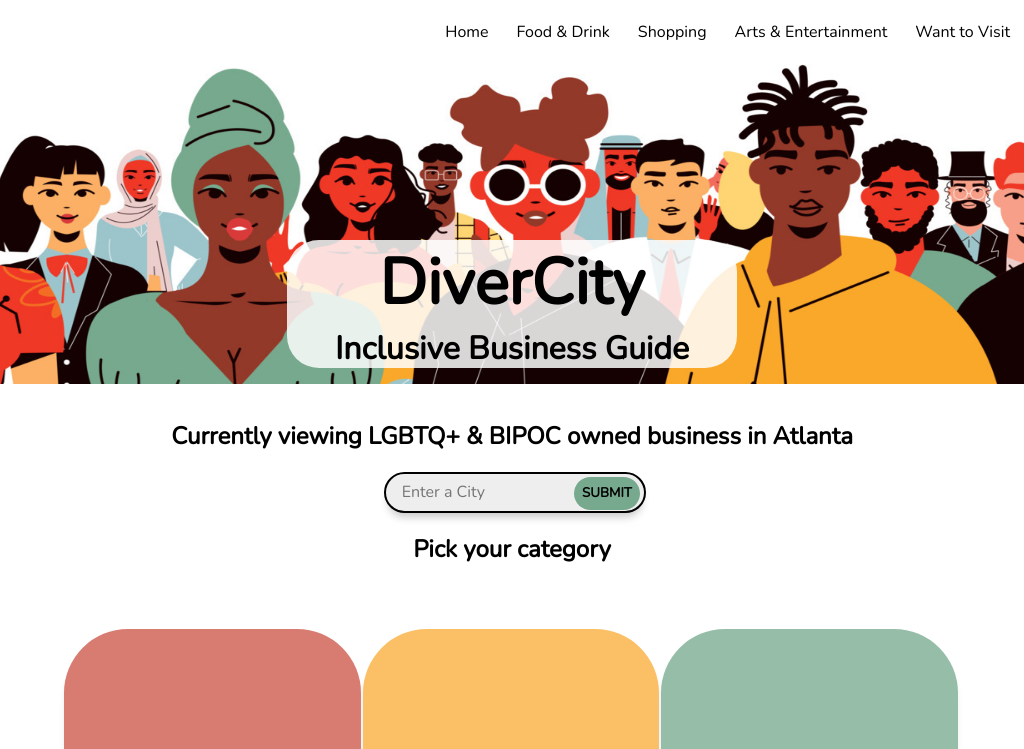
Test: Error handling › should display an error message for a 404 error
In the field with placeholder "Enter a City": (515, 493) [384,472,646,513], type "Denver"
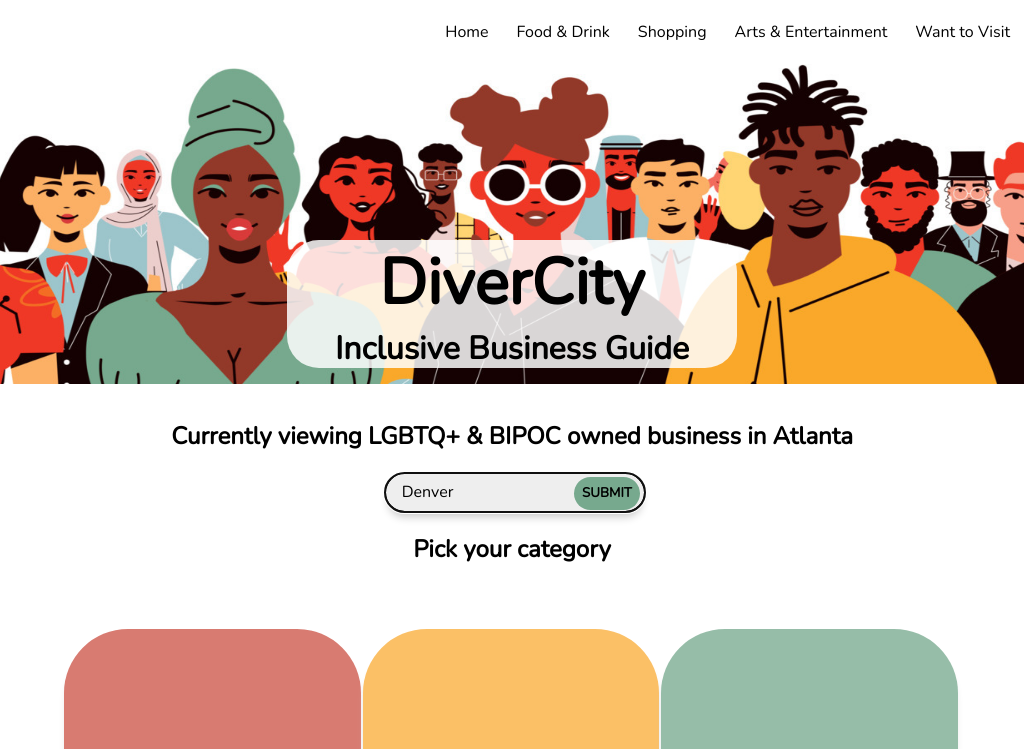
Click the button with class "submit-button": (608, 494) [574,477,641,511]
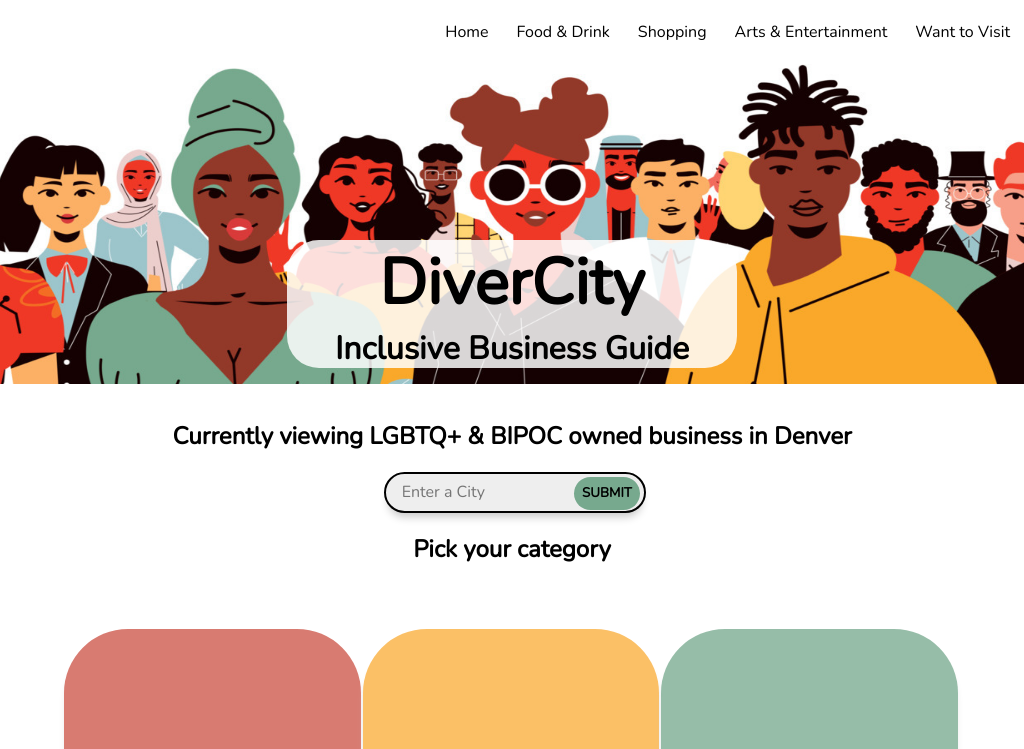
Open "http://localhost:3000/videogames"
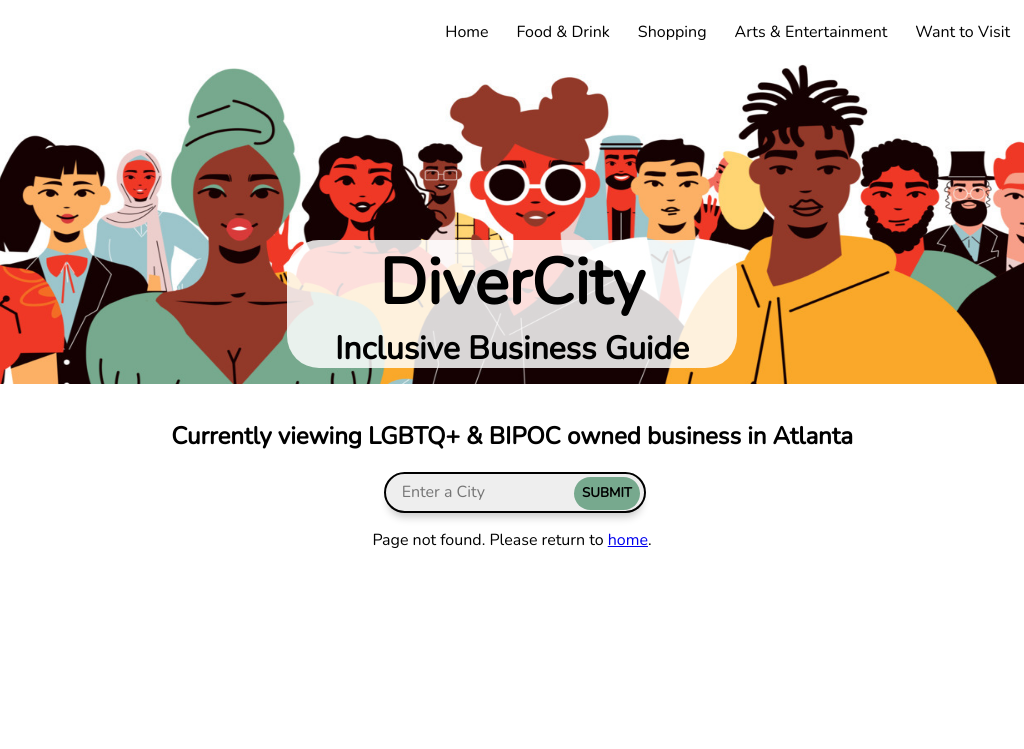
expect the text "Page not found. Please return to home." is shown: met, box [372,529,651,551]
